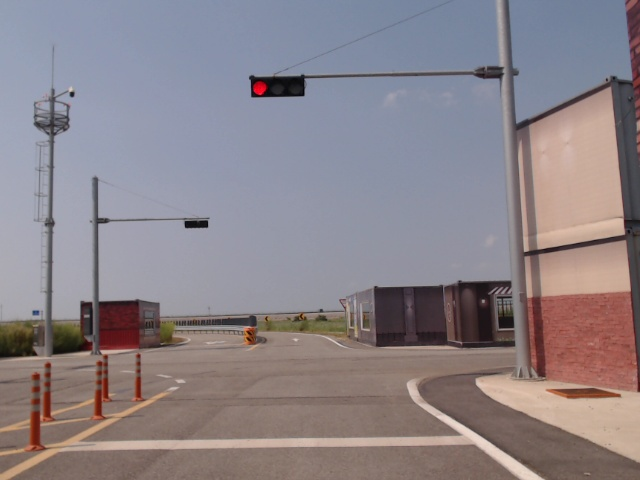red_3: (251, 77, 305, 97)
